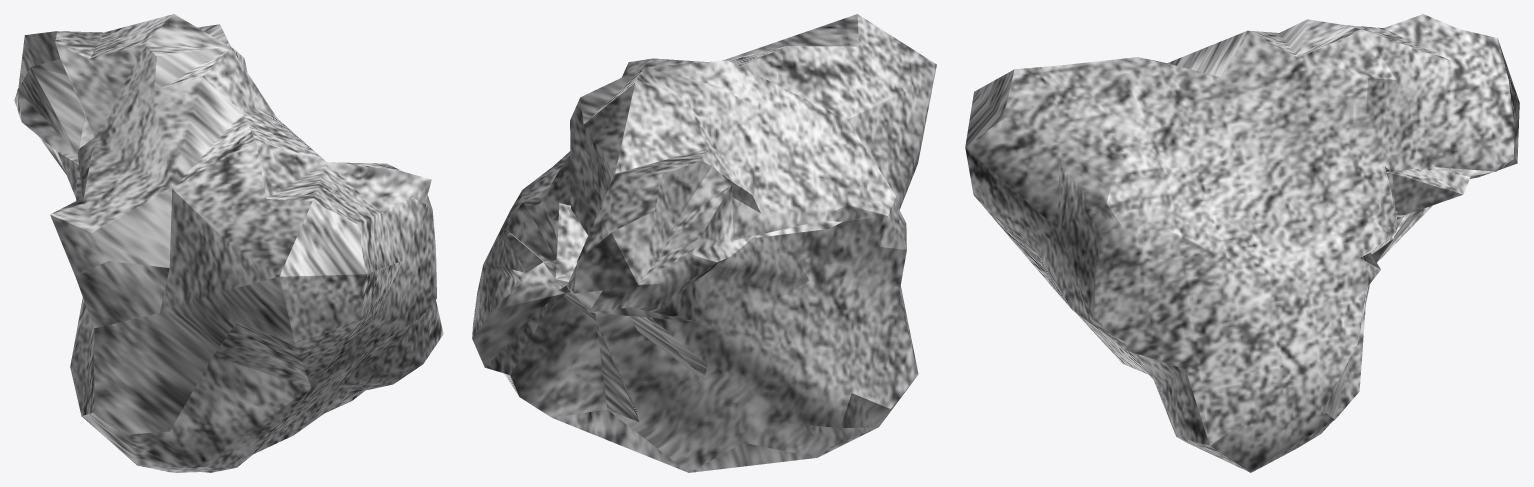
File: Rock_Asset_19.fbx
3 views of the same model, side by side, from view 1: azimuth 30°, elevation 25°; view 2: azimuth 150°, elevation 25°; view 3: azimuth 270°, elevation 25° (orthographic). The views are drawn at different scales.
Visible parts, largest first — view 1: Rock_Asset; view 2: Rock_Asset; view 3: Rock_Asset.
Boxes of the visible parts, x1=… form: Rock_Asset: x1=14, y1=14, x2=443, y2=472; Rock_Asset: x1=472, y1=14, x2=936, y2=472; Rock_Asset: x1=965, y1=14, x2=1519, y2=472.
Bounding box in the file's own units: 1.38 × 1.39 × 1.71.
Materials: 1 (1 with a texture image).
